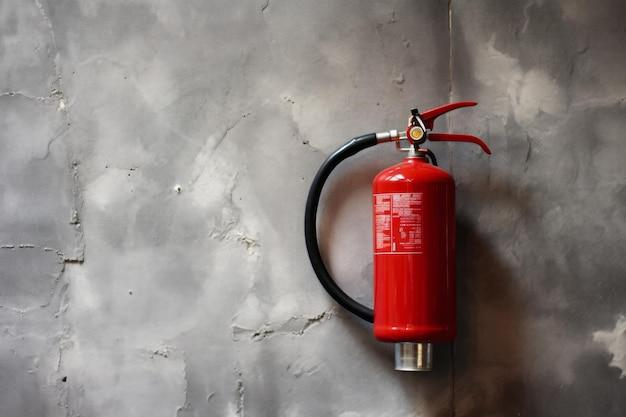wall-mounted: (295, 97, 501, 395)
